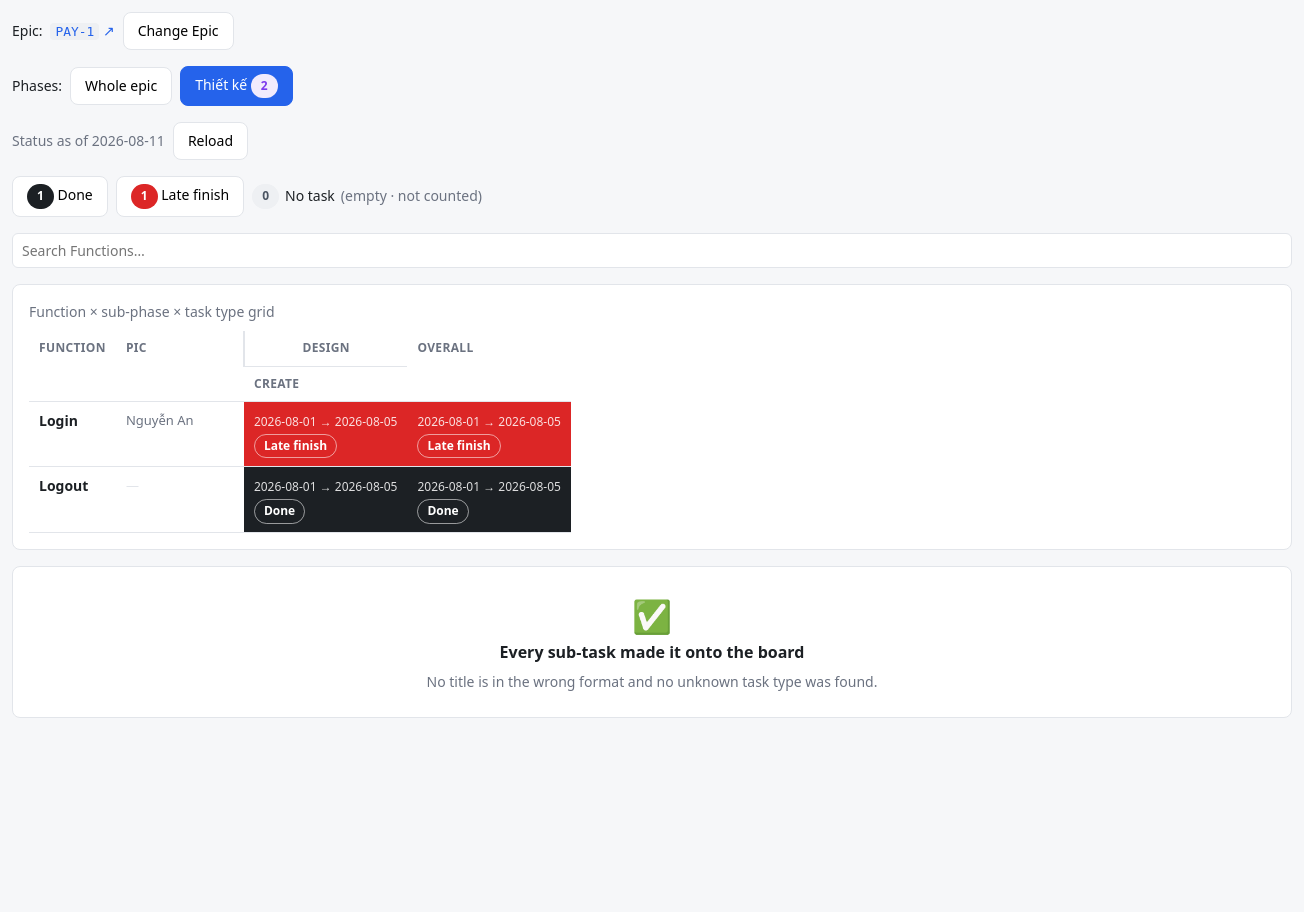
Test: SignboardScreen — Reload xoá bộ lọc › bấm Reload sau khi lọc "task trễ" thì trở lại xem toàn bộ task
Check: the column heading "Login" is shown, box [29, 402, 116, 467]
Check: the column heading "Logout" is shown, box [29, 467, 116, 532]
Click the button "1 Late finish". click: x=180, y=196
box: [116, 176, 244, 217]
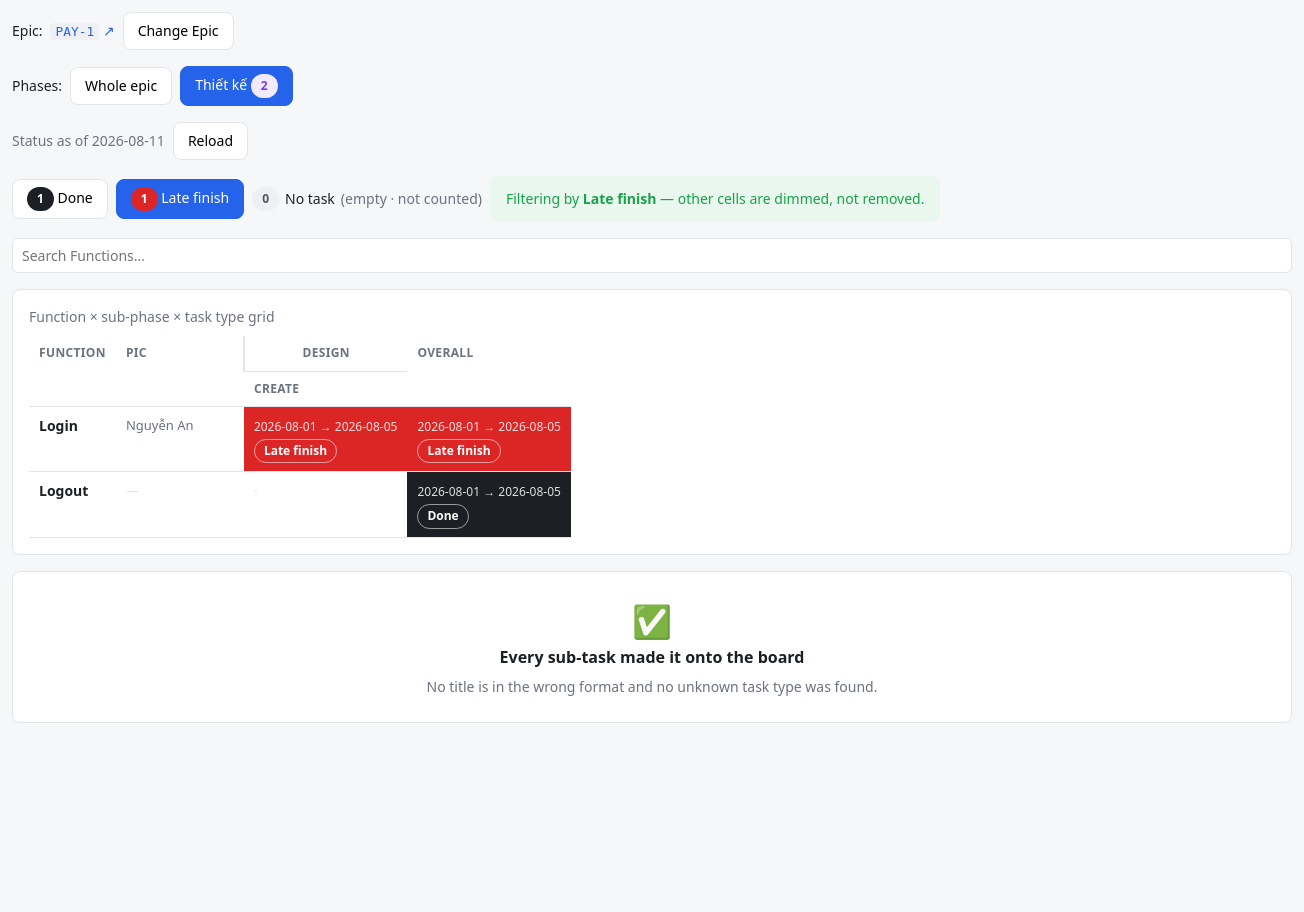
Check: the text "Filtering by Late finish — other cells are dimmed, not removed." is shown, box [490, 176, 940, 222]
# Bấm Reload → bộ lọc bị xoá, quay lại khung nhìn đầy đủ.
Click the button "Reload". click: x=210, y=141
box: [173, 122, 248, 160]
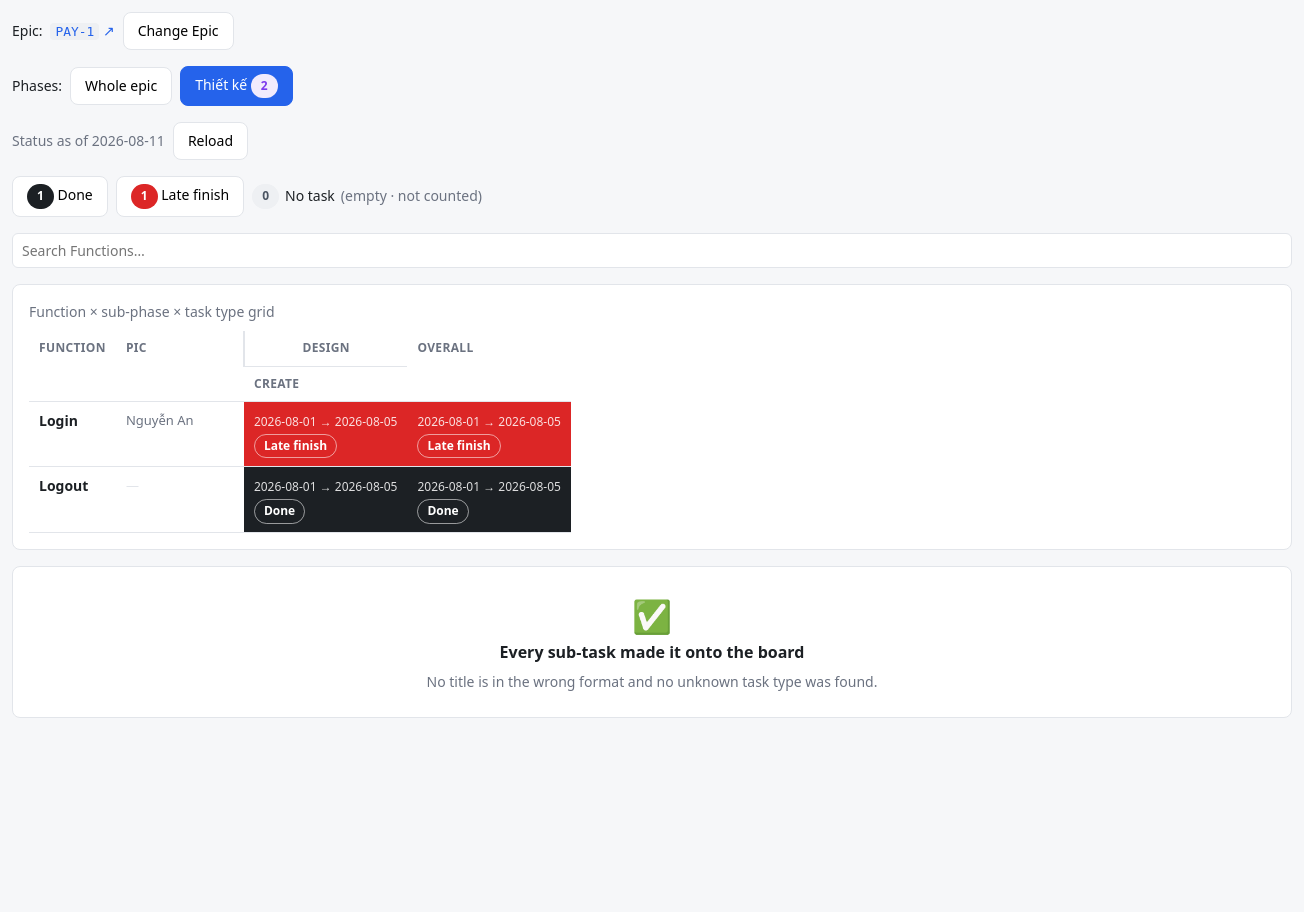
Check: the text "Filtering by" is gone
